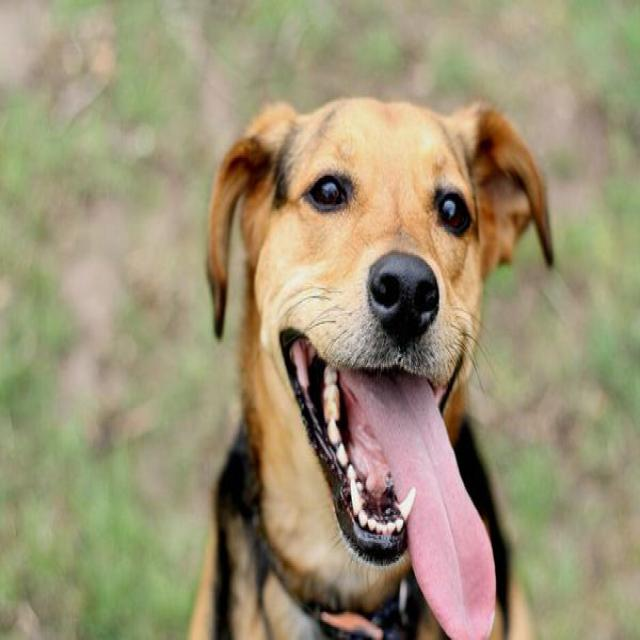eye: (434, 188, 475, 242), (306, 168, 350, 215)
